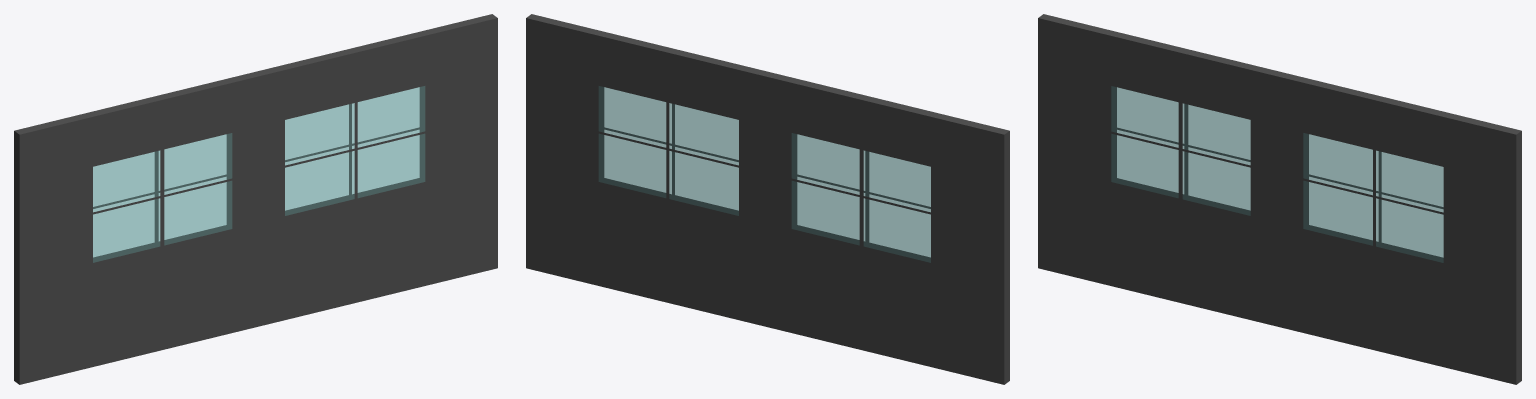
File: Wall_2_quad_glass.fbx
3 renders of one model, left to right at view 1: azimuth 30°, elevation 25°; view 2: azimuth 150°, elevation 25°; view 3: azimuth 330°, elevation 25°, orthographic.
Visible parts, largest first — view 1: pCube1; view 2: pCube1; view 3: pCube1.
Boxes of the visible parts, <box> form: pCube1: <box>14,14,497,384</box>; pCube1: <box>526,14,1009,384</box>; pCube1: <box>1038,14,1521,384</box>.
Bounding box in the file's own units: 10 × 5 × 0.2.
